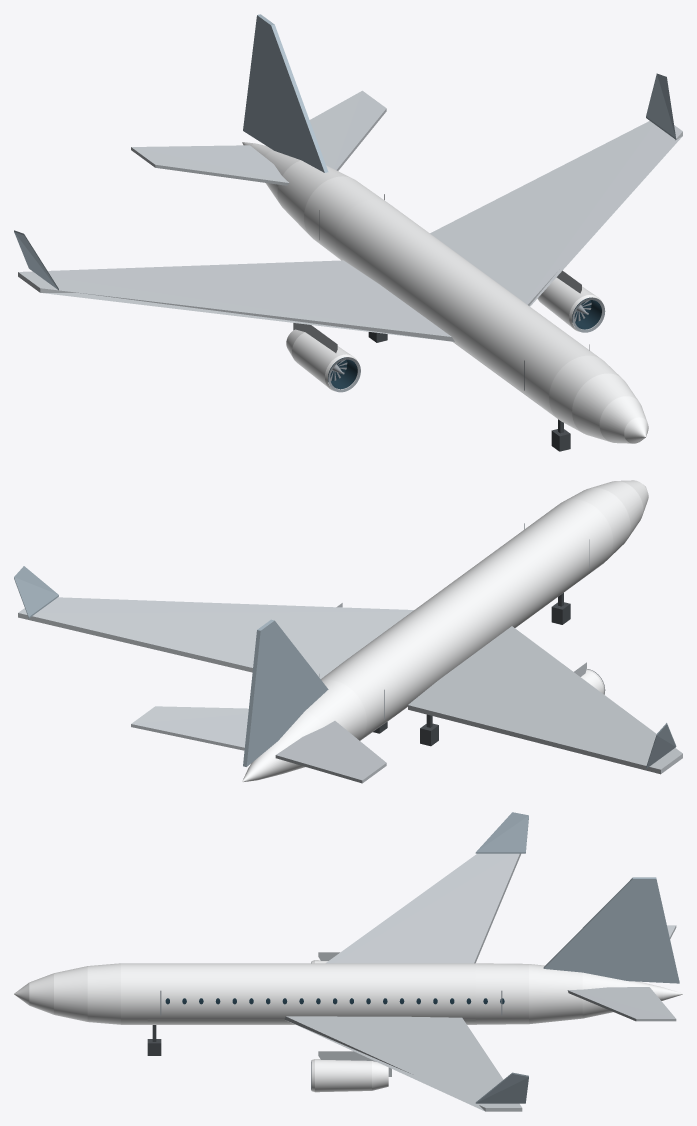
The model's file is a220-neutral-v3.gltf.
The picture shows the model from 3 angles, top to bottom: view 1: azimuth 30°, elevation 25°; view 2: azimuth 150°, elevation 25°; view 3: azimuth 270°, elevation 25°; orthographic projection. The views are drawn at different scales.
Visible parts, largest first — view 1: object 1; view 2: object 1, Gear; view 3: object 1.
Part boxes in pixels (box(x1,y1,x2,y2)): object 1: box(14, 14, 682, 443); object 1: box(14, 480, 682, 783); Gear: box(373, 593, 570, 746); object 1: box(14, 812, 682, 1111).
Bounding box in the file's own units: 35 × 11.01 × 38.
